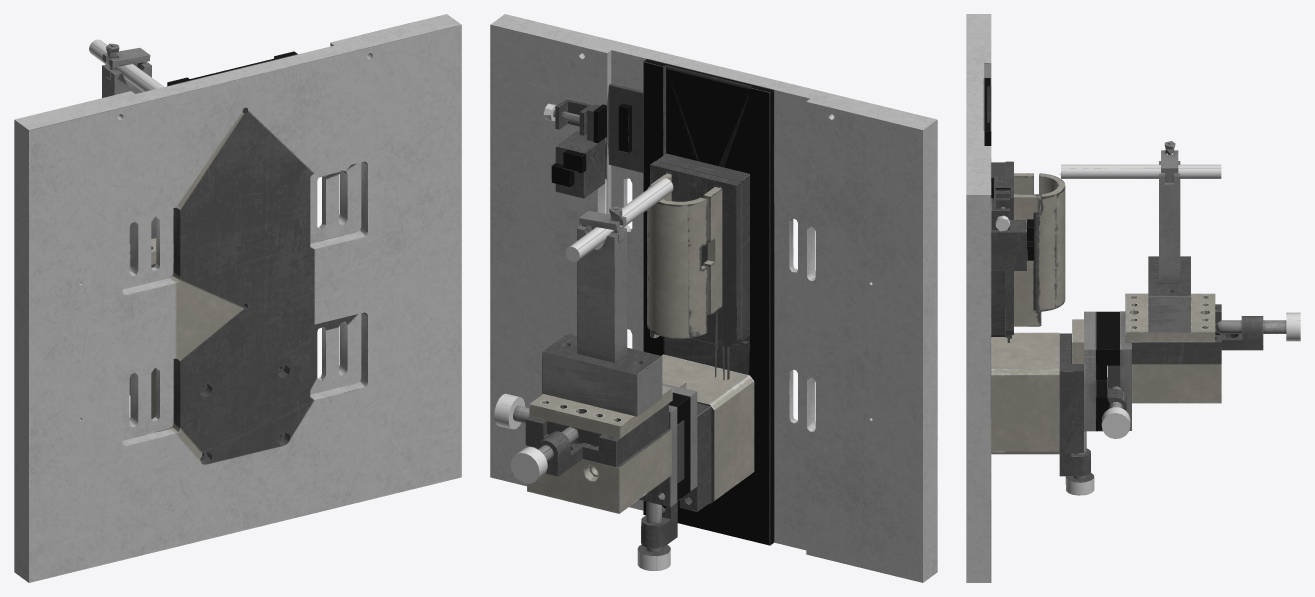
Rendered from VIS_Base.dae.
3 views of the same model, side by side, from view 1: azimuth 30°, elevation 25°; view 2: azimuth 150°, elevation 25°; view 3: azimuth 270°, elevation 25° (orthographic). The views are drawn at different scales.
Parts seen in each view (by area): view 1: Base; view 2: Base; view 3: Base.
Part boxes in pixels (left/top/right/bottom): Base: left=14, top=14, right=461, bottom=582; Base: left=490, top=14, right=937, bottom=582; Base: left=966, top=14, right=1300, bottom=582.
Bounding box in the file's own units: 288 × 225 × 288.
Materials: 1 (1 with a texture image).
